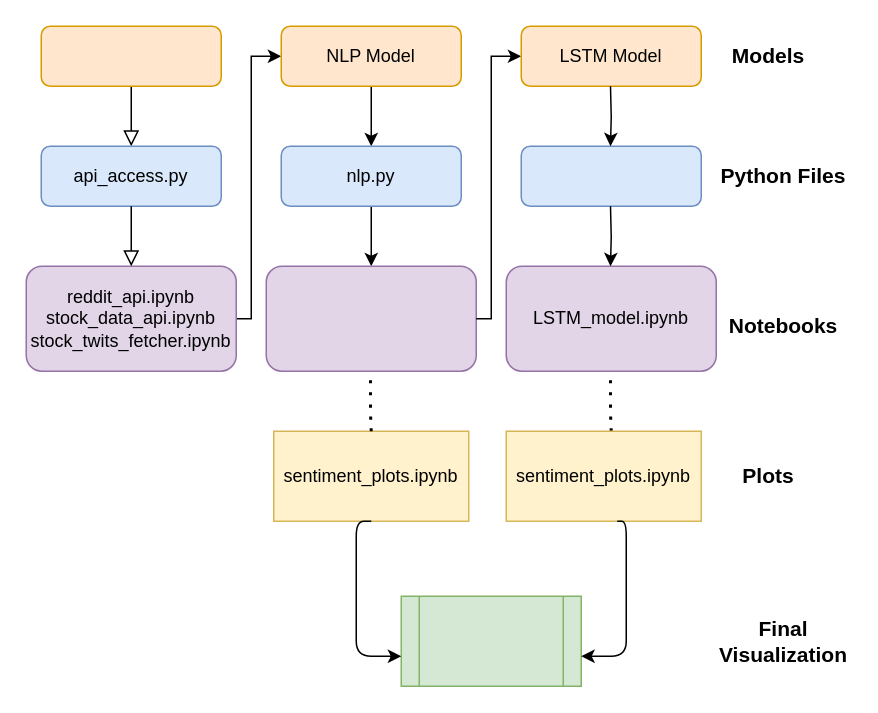
The diagram is 878 pixels wide and 713 high, and some of its shapes have lost their labels. Here are the shapes that lost their labels. From the top down, the centre of each, then its label:
point (130, 55): APIs
point (610, 175): model_functions.py
point (370, 318): sentiment_model.ipynb
point (490, 640): dashboard.ipynb
